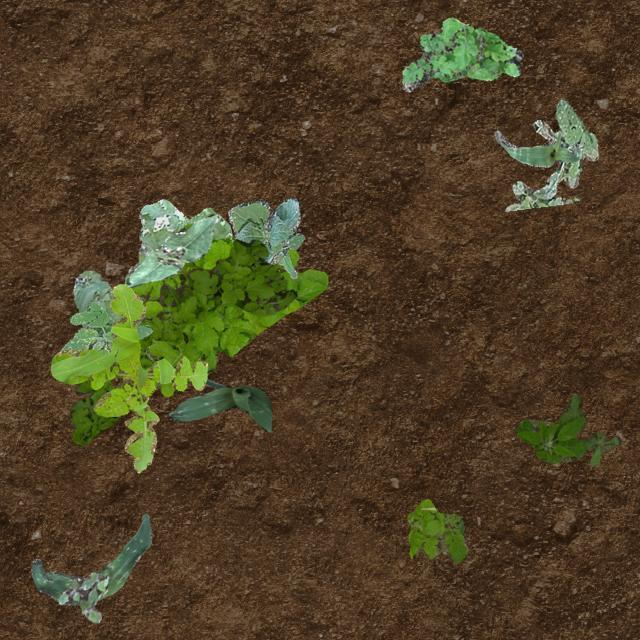crop: (30, 512, 150, 604), (125, 212, 218, 286), (228, 196, 302, 278), (168, 378, 270, 432), (492, 130, 582, 167)
weed: (70, 238, 296, 446), (130, 223, 328, 395), (50, 283, 206, 472), (72, 198, 230, 360), (504, 98, 596, 210), (402, 16, 522, 90), (514, 394, 620, 464), (60, 301, 152, 354), (406, 498, 466, 562), (56, 572, 108, 622)
